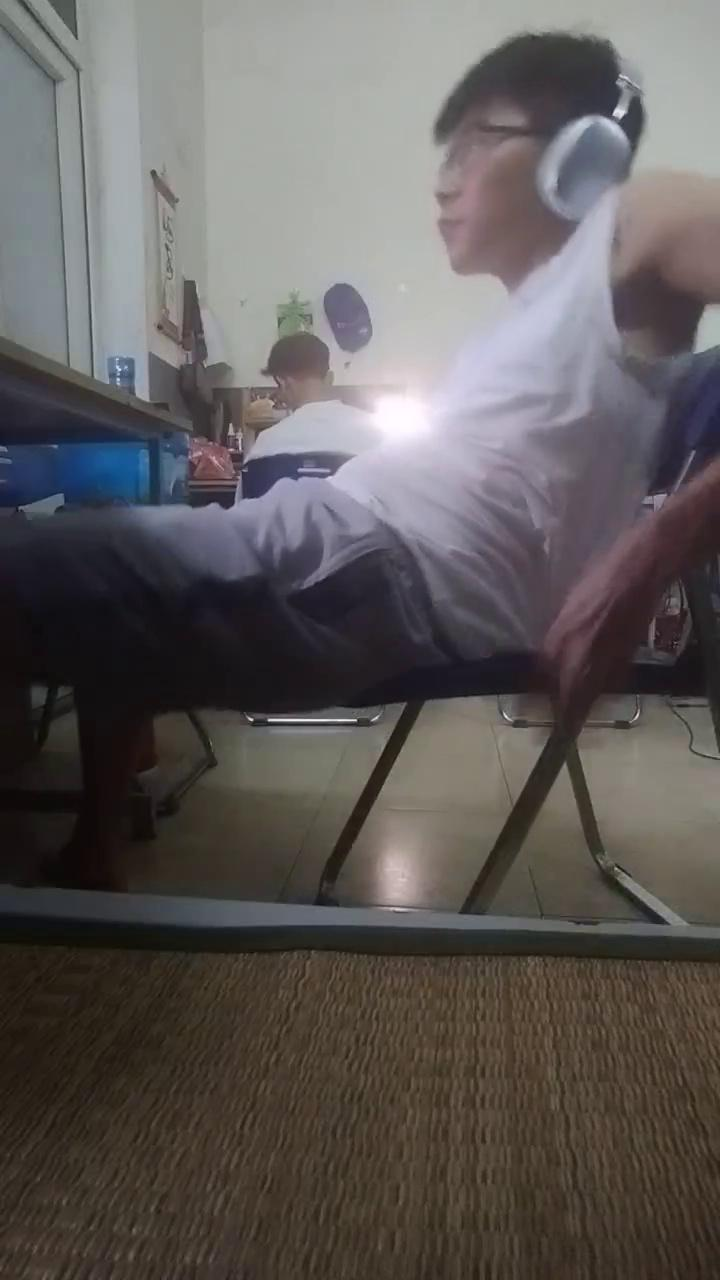BadPosture: (0, 33, 719, 890)
